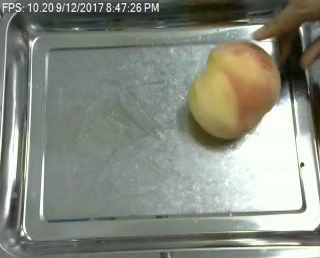Peach: (187, 39, 281, 140)
